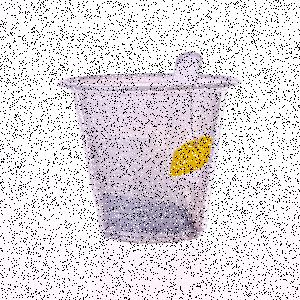Cup: (57, 73, 245, 245)
